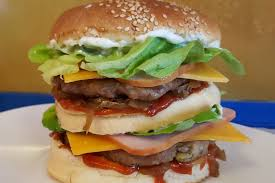hamburger: (30, 1, 252, 183)
